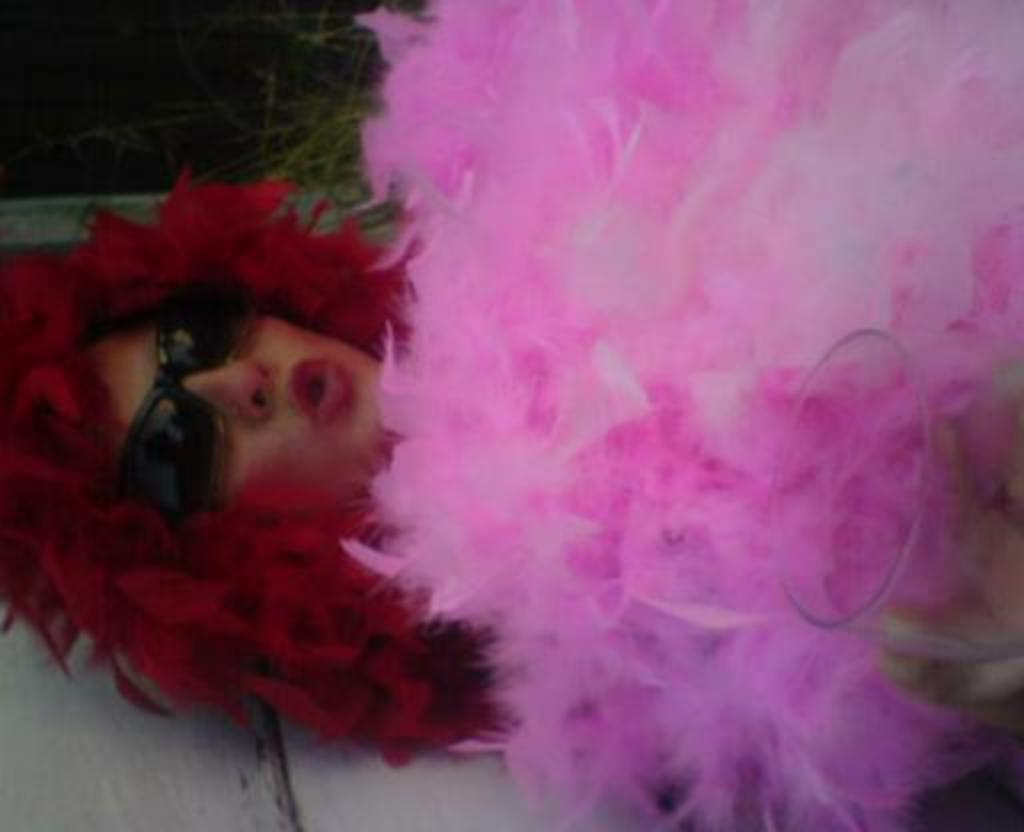face: (168, 295, 404, 529)
